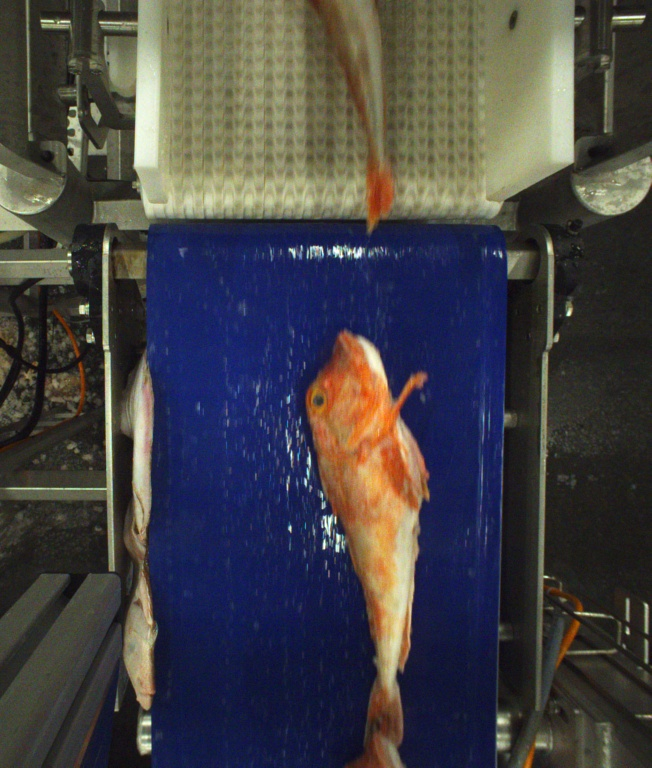GUU: (302, 330, 426, 744)
